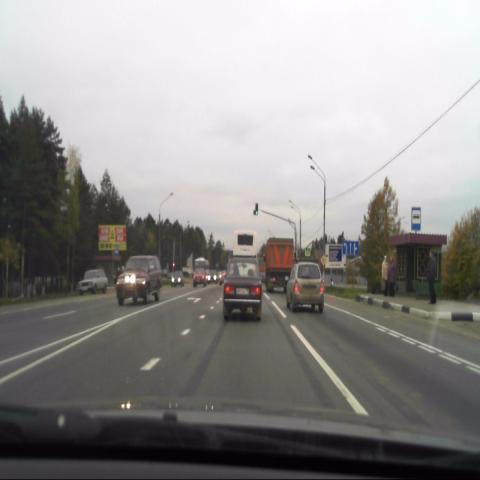5_15_1: (342, 241, 358, 256)
